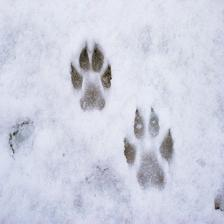wolf: (120, 107, 178, 194), (68, 37, 119, 114)
